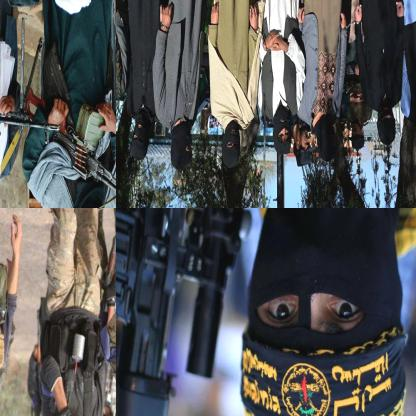rifle: (116, 208, 259, 415), (26, 87, 115, 207), (0, 73, 68, 145)
